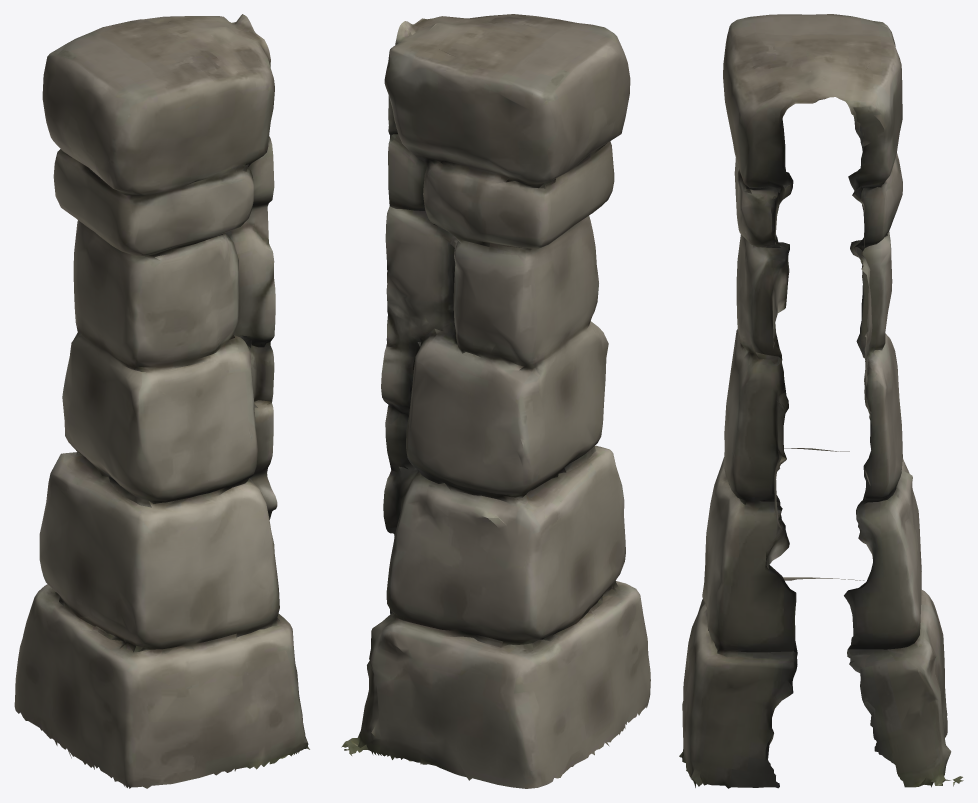
File: WallPillarEnd.glb
The picture shows the model from 3 angles, left to right: view 1: azimuth 30°, elevation 25°; view 2: azimuth 150°, elevation 25°; view 3: azimuth 270°, elevation 25°; orthographic projection.
Visible parts, largest first — view 1: WallPillarEnd; view 2: WallPillarEnd; view 3: WallPillarEnd.
Boxes of the visible parts, box(x1,y1,x2,y2) form: WallPillarEnd: box(14, 14, 309, 788); WallPillarEnd: box(341, 14, 650, 788); WallPillarEnd: box(679, 14, 963, 788).
Bounding box in the file's own units: 0.4148 × 1.44 × 0.53.
Materials: 1 (1 with a texture image).
